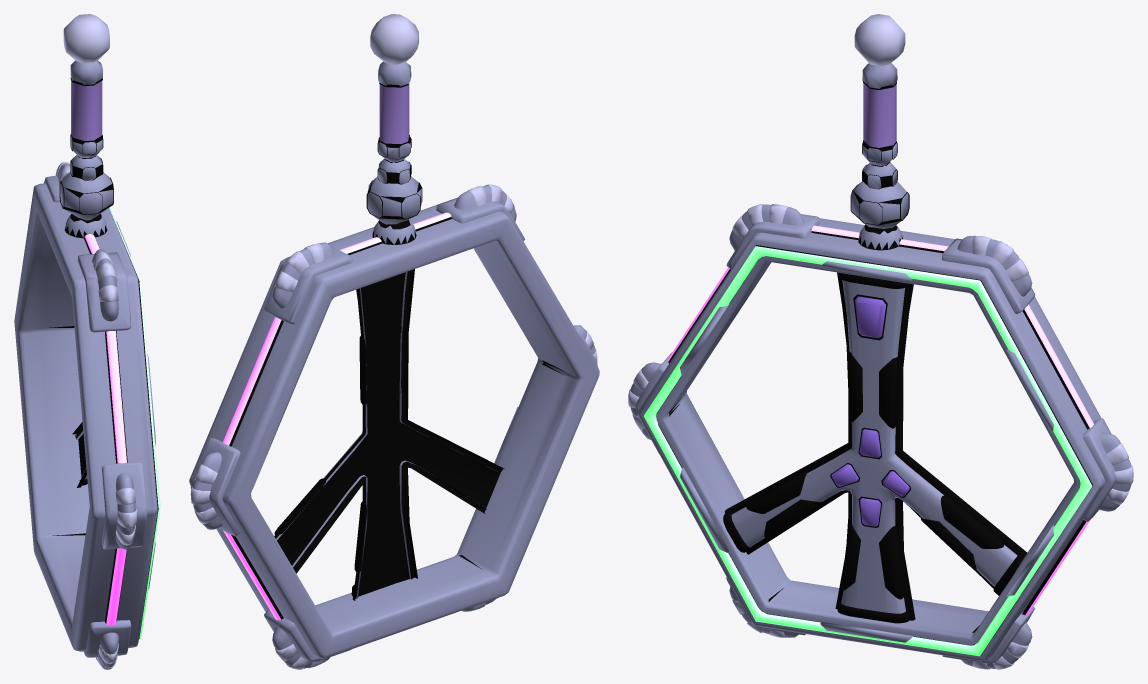
File: Four 1.gltf
3 renders of one model, left to right at view 1: azimuth 30°, elevation 25°; view 2: azimuth 150°, elevation 25°; view 3: azimuth 270°, elevation 25°, orthographic. The views are drawn at different scales.
Parts seen in each view (by area): view 1: Four Base; view 2: Four Base; view 3: Four Base.
Boxes of the visible parts, x1,y1,x2,y2 form: Four Base: (14, 14, 160, 669); Four Base: (189, 14, 599, 669); Four Base: (628, 14, 1133, 669).
Bounding box in the file's own units: 2.52 × 7.5 × 5.42.
